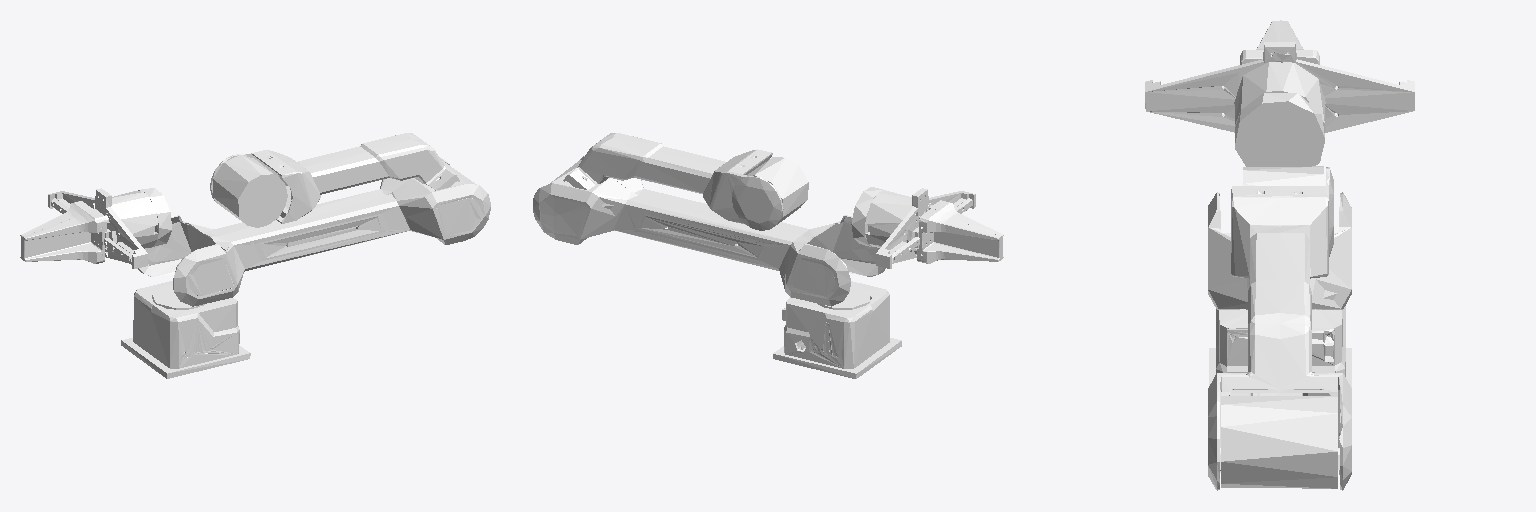
robot.urdf — fangzhenjixiebi:
<?xml version="1.0" encoding="utf-8"?>
<robot name="fangzhenjixiebi">

  <material name="white">
    <color rgba="1 1 1 1"/>
  </material>

  <link name="base_link">
    <visual>
      <origin xyz="0 0 0" rpy="0 0 0"/>
      <geometry>
        <mesh filename="../meshes/base_link.STL"/>
      </geometry>
      <material name="white"/>
    </visual>
    <collision>
      <origin xyz="0 0 0" rpy="0 0 0"/>
      <geometry>
        <mesh filename="../meshes/base_link.STL"/>
      </geometry>
    </collision>
  </link>

  <joint name="1joint" type="revolute">
    <origin xyz="0 0 0" rpy="0 0 0"/>
    <parent link="base_link"/>
    <child link="1_Link"/>
    <axis xyz="0 0 1"/>
    <limit lower="-2.967" upper="2.967" effort="9" velocity="10.0"/>
  </joint>

  <link name="1_Link">
    <inertial>
      <origin xyz="0 0.000005 0.0590654" rpy="1.5708 0 0"/>
      <mass value="0.240435"/>
      <inertia ixx="0.000186308" ixy="0" ixz="0" iyy="0.000164031" iyz="0" izz="0.000128092"/>
    </inertial>
    <visual>
      <origin xyz="0 0 0" rpy="0 0 0"/>
      <geometry>
        <mesh filename="../meshes/1_Link.STL"/>
      </geometry>
      <material name="white"/>
    </visual>
    <collision>
      <origin xyz="0 0 0" rpy="0 0 0"/>
      <geometry>
        <mesh filename="../meshes/1_Link.STL"/>
      </geometry>
    </collision>
  </link>

  <joint name="2joint" type="revolute">
    <origin xyz="0 0 0.065224" rpy="1.5708 0 0"/>
    <parent link="1_Link"/>
    <child link="2_Link"/>
    <axis xyz="0 0 1"/>
    <limit lower="0" upper="3.14" effort="9" velocity="10.0"/>
  </joint>

  <link name="2_Link">
    <inertial>
      <origin xyz="0.251877 -0.0121583 0.000522957" rpy="1.57 0 1.57"/>
      <mass value="0.27896"/>
      <inertia ixx="0.00101012" ixy="0" ixz="0" iyy="0.000968578" iyz="0" izz="0.00016357"/>
    </inertial>
    <visual>
      <origin xyz="0 0.012094 0" rpy="0 0 0"/>
      <geometry>
        <mesh filename="../meshes/2_Link.STL"/>
      </geometry>
      <material name="white"/>
    </visual>
    <collision>
      <origin xyz="0 0.012094 0" rpy="0 0 0"/>
      <geometry>
        <mesh filename="../meshes/2_Link.STL"/>
      </geometry>
    </collision>
  </link>

  <joint name="3joint" type="revolute">
    <origin xyz="0.3 0 0.0005" rpy="0 0 1.5708"/>
    <parent link="2_Link"/>
    <child link="3_Link"/>
    <axis xyz="0 0 -1"/>
    <limit lower="0" upper="3.14" effort="9" velocity="10.0"/>
  </joint>

  <link name="3_Link">
    <inertial>
      <origin xyz="0.0566283 0.190562 -0.00330663" rpy="-0.6 -1.37 1.6"/>
      <mass value="0.196496"/>
      <inertia ixx="0.000365387" ixy="0" ixz="0" iyy="0.000357218" iyz="0" izz="7.49679e-05"/>
    </inertial>
    <visual>
      <origin xyz="0 0 0" rpy="0 0 0"/>
      <geometry>
        <mesh filename="../meshes/3_Link.STL"/>
      </geometry>
      <material name="white"/>
    </visual>
    <collision>
      <origin xyz="0 0 0" rpy="0 0 0"/>
      <geometry>
        <mesh filename="../meshes/3_Link.STL"/>
      </geometry>
    </collision>
  </link>

  <joint name="4joint" type="revolute">
    <origin xyz="0.057369 0.22028 -0.000495" rpy="0 0 1.5708"/>
    <parent link="3_Link"/>
    <child link="4_Link"/>
    <axis xyz="0 0 1"/>
    <limit lower="-1.57" upper="1.518" effort="3" velocity="10.0"/>
  </joint>

  <link name="4_Link">
    <inertial>
      <origin xyz="0.0683668 -0.0480245 0.00305266" rpy="1.95 0.52 0.82"/>
      <mass value="0.157398"/>
      <inertia ixx="0.000221164" ixy="0" ixz="0" iyy="0.000219057" iyz="0" izz="6.08582e-05"/>
    </inertial>
    <visual>
      <origin xyz="0 0 0" rpy="0 0 0"/>
      <geometry>
        <mesh filename="../meshes/4_Link.STL"/>
      </geometry>
      <material name="white"/>
    </visual>
    <collision>
      <origin xyz="0 0 0" rpy="0 0 0"/>
      <geometry>
        <mesh filename="../meshes/4_Link.STL"/>
      </geometry>
    </collision>
  </link>

  <joint name="5joint" type="revolute">
    <origin xyz="0.080666 -0.05857 0.00047555" rpy="-1.5708 0 0"/>
    <parent link="4_Link"/>
    <child link="5_Link"/>
    <axis xyz="0 0 1"/>
    <limit lower="-1.57" upper="1.57" effort="3" velocity="10.0"/>
  </joint>

  <link name="5_Link">
    <inertial>
      <origin xyz="0.00107781 9.47221e-11 0.0546028" rpy="0 0.09 0"/>
      <mass value="0.148471"/>
      <inertia ixx="7.23521e-05" ixy="0" ixz="0" iyy="7.08257e-05" iyz="0" izz="6.2135e-05"/>
    </inertial>
    <visual>
      <origin xyz="0 0 0" rpy="0 0 0"/>
      <geometry>
        <mesh filename="../meshes/5_Link.STL"/>
      </geometry>
      <material name="white"/>
    </visual>
    <collision>
      <origin xyz="0 0 0" rpy="0 0 0"/>
      <geometry>
        <mesh filename="../meshes/5_Link.STL"/>
      </geometry>
    </collision>
  </link>

  <joint name="6joint" type="revolute">
    <origin xyz="0 0 0.059088" rpy="1.5708 0 1.5708"/>
    <parent link="5_Link"/>
    <child link="6_Link"/>
    <axis xyz="0 0 1"/>
    <limit lower="-1.57" upper="1.57" effort="3" velocity="10.0"/>
  </joint>

  <link name="6_Link">
    <inertial>
      <origin xyz="-2.83638e-08 -0.00995222 0.0624149" rpy="1.57 0 1.57"/>
      <mass value="0.191166"/>
      <inertia ixx="0.000155312" ixy="0" ixz="0" iyy="0.000139085" iyz="0" izz="5.70486e-05"/>
    </inertial>
    <visual>
      <origin xyz="0 0.0095 0" rpy="0 0 0"/>
      <geometry>
        <mesh filename="../meshes/6_Link.STL"/>
      </geometry>
      <material name="white"/>
    </visual>
    <collision>
      <origin xyz="0 0.0095 0" rpy="0 0 0"/>
      <geometry>
        <mesh filename="../meshes/6_Link.STL"/>
      </geometry>
    </collision>
  </link>

  <joint name="8joint" type="prismatic">
    <origin xyz="0.0138 0.016 0.093039" rpy="0 0 0"/>
    <parent link="6_Link"/>
    <child link="7_Link"/>
    <axis xyz="1 0 0"/>
    <limit lower="0" upper="0.05" effort="3" velocity="10.0"/>
  </joint>

  <link name="7_Link">
    <inertial>
      <origin xyz="0 0 0.0491021" rpy="0.13 0 0"/>
      <mass value="0.0763456"/>
      <inertia ixx="2.79204e-05" ixy="0" ixz="0" iyy="2.01434e-05" iyz="0" izz="1.69657e-05"/>
    </inertial>
    <visual>
      <origin xyz="0 0 0" rpy="0 0 0"/>
      <geometry>
        <mesh filename="../meshes/9_1_Link.STL"/>
      </geometry>
      <material name="white"/>
    </visual>
    <collision>
      <origin xyz="0 0 0" rpy="0 0 0"/>
      <geometry>
        <mesh filename="../meshes/9_1_Link.STL"/>
      </geometry>
    </collision>
  </link>

  <joint name="7joint" type="prismatic">
    <origin xyz="-0.0138 -0.016 0.093039" rpy="0 0 0"/>
    <parent link="6_Link"/>
    <child link="8_Link"/>
    <axis xyz="-1 0 0"/>
    <limit lower="0" upper="0.05" effort="3" velocity="10.0"/>
  </joint>

  <link name="8_Link">
    <inertial>
      <origin xyz="0 0 0.0491021" rpy="0.13 0 0"/>
      <mass value="0.0763456"/>
      <inertia ixx="2.79204e-05" ixy="0" ixz="0" iyy="2.01434e-05" iyz="0" izz="1.69657e-05"/>
    </inertial>
    <visual>
      <origin xyz="0 0 0" rpy="0 0 0"/>
      <geometry>
        <mesh filename="../meshes/9_2_Link.STL"/>
      </geometry>
      <material name="white"/>
    </visual>
    <collision>
      <origin xyz="0 0 0" rpy="0 0 0"/>
      <geometry>
        <mesh filename="../meshes/9_2_Link.STL"/>
      </geometry>
    </collision>
  </link>

</robot>

--- What the picture shows (computed from the rendered views, not written in the file) ---
The picture shows the robot from 3 angles, left to right: view 1: azimuth 30°, elevation 25°; view 2: azimuth 150°, elevation 25°; view 3: azimuth 270°, elevation 25°; orthographic projection.
Robot: fangzhenjixiebi — 9 links, 8 joints (6 revolute, 2 prismatic); root link base_link; default pose: all joints at 0.
Visible links, largest first — view 1: 2_Link, 3_Link, base_link, 6_Link, 8_Link, 7_Link; view 2: 2_Link, 3_Link, base_link, 6_Link, 7_Link, 8_Link; view 3: 2_Link, 3_Link, 6_Link, base_link, 7_Link, 8_Link.
Link boxes in pixels (x1,y1,x2,y2): 2_Link: (138, 157, 490, 306); 3_Link: (210, 133, 459, 227); base_link: (121, 281, 250, 378); 6_Link: (48, 188, 171, 268); 8_Link: (23, 208, 110, 263); 7_Link: (20, 201, 92, 259); 2_Link: (533, 156, 885, 306); 3_Link: (563, 133, 808, 230); base_link: (773, 281, 901, 378); 6_Link: (851, 187, 975, 268); 7_Link: (913, 209, 1000, 263); 8_Link: (926, 200, 1003, 259); 2_Link: (1208, 192, 1351, 490); 3_Link: (1221, 166, 1337, 395); 6_Link: (1145, 42, 1414, 166); base_link: (1209, 306, 1351, 387); 7_Link: (1280, 20, 1319, 64); 8_Link: (1240, 21, 1279, 64).
Size in the robot's own frame: 0.5104 by 0.1696 by 0.1957 metres.
Meshes: 9 distinct files referenced, 6 mesh visuals loaded (6 binary STL); not drawn: 3 (reference not matched to a file when rendering).
